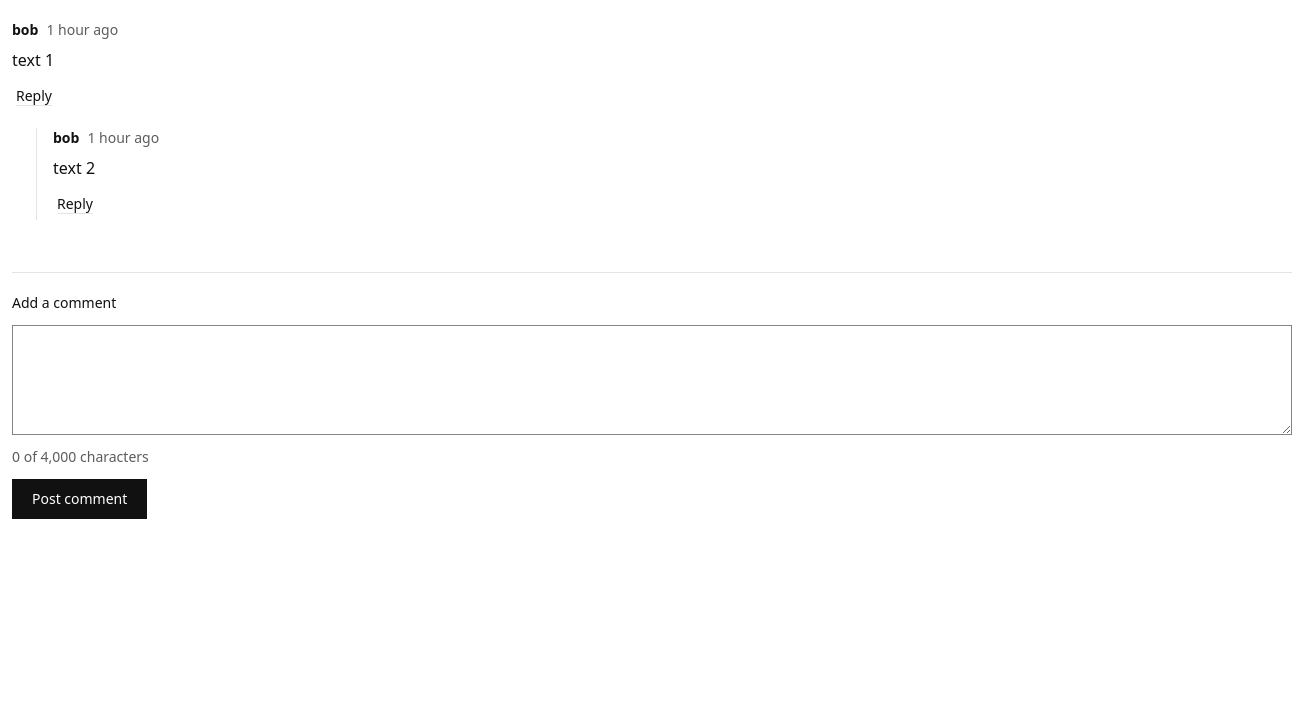
Scenario: CommentsClient › replies to a reply: the form opens under the reply, posts its id and the comment lands in the same thread
The image size is (1304, 720).
Click the button with aria-label "Reply to the comment by bob" at (75, 204), box x1=53 y1=188 x2=97 y2=220
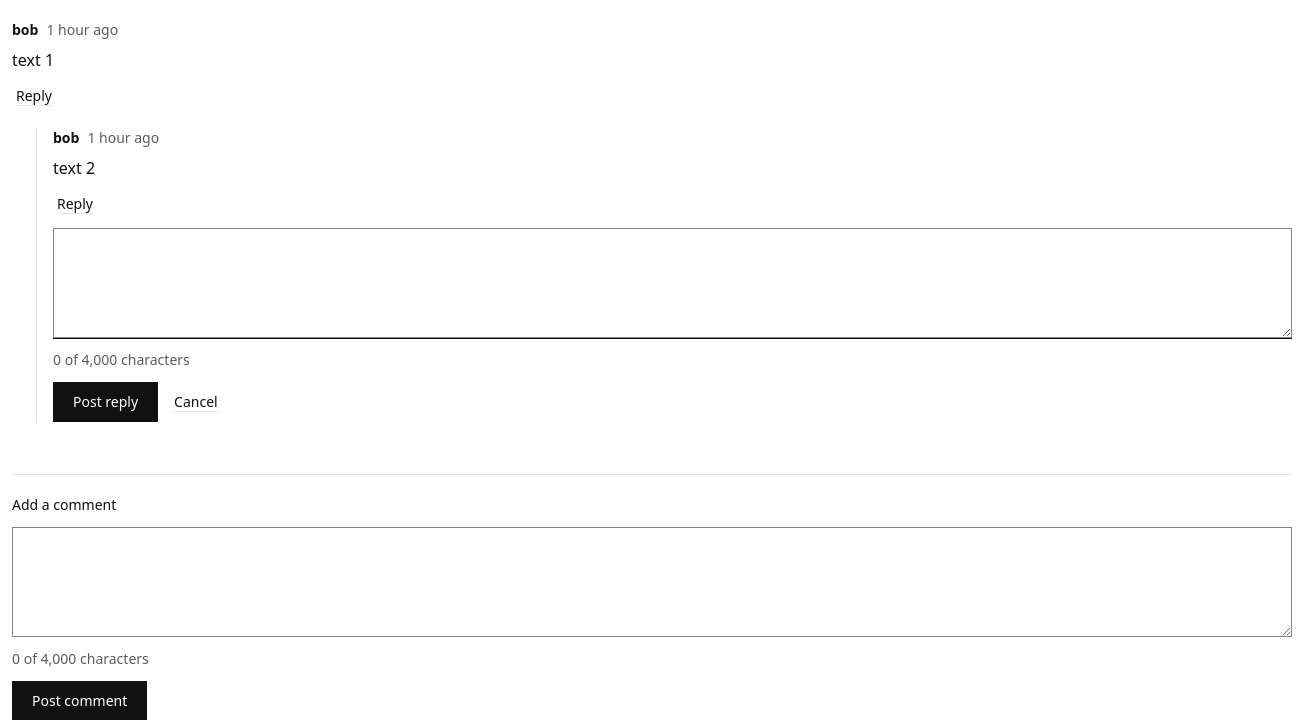
Type "me too" into the text box named "Write a reply to the comment by bob" at (672, 283), box x1=53 y1=228 x2=1292 y2=338
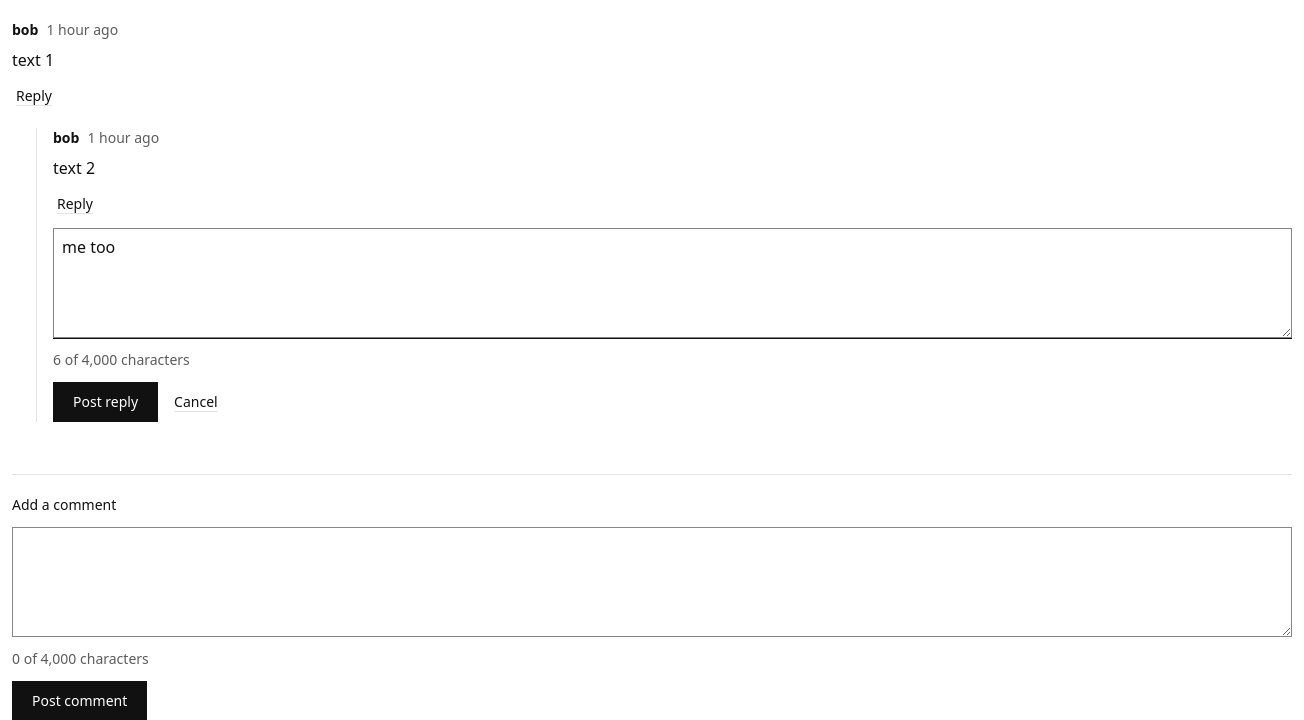
Click the button "Post reply" at (106, 402), box x1=53 y1=382 x2=158 y2=422
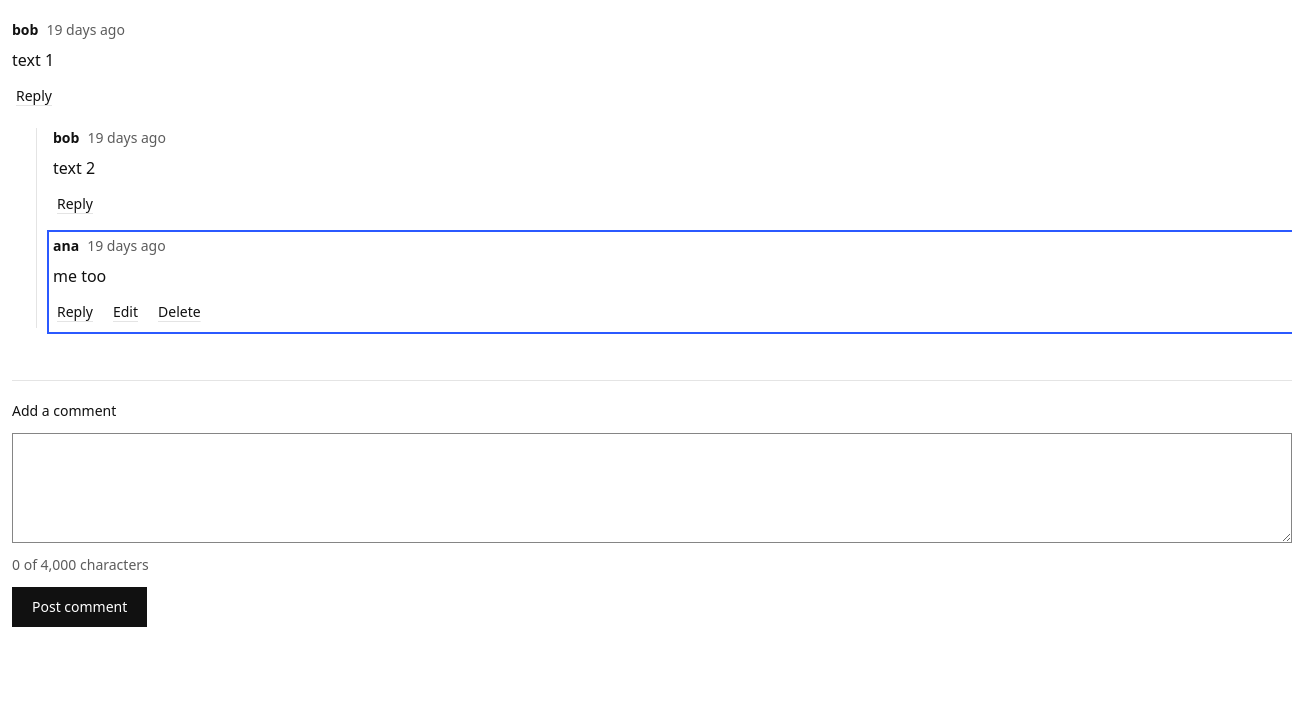
Expected: the number of lists with test id "comment-threads" is 1, x1=12 y1=0 x2=1292 y2=348
Result: the text "me too" is shown at x1=53 y1=265 x2=106 y2=287
